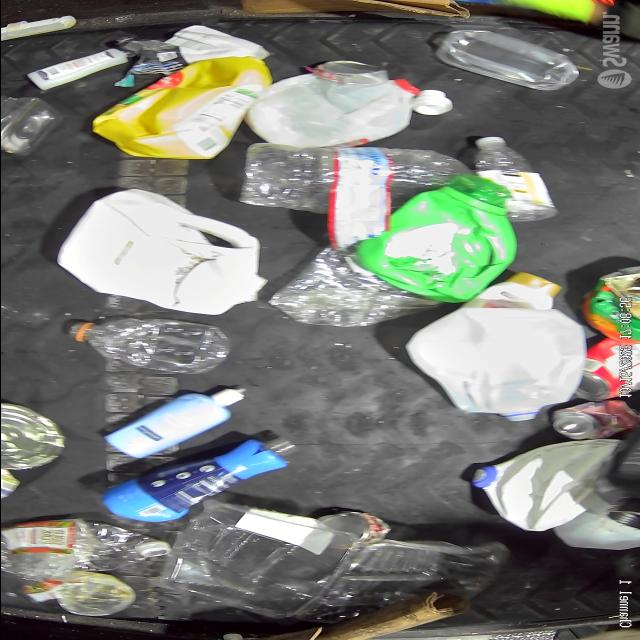can: (578, 337, 640, 402), (549, 402, 639, 440), (322, 510, 392, 548)
milk_jug: (58, 192, 266, 315), (410, 310, 588, 420), (466, 442, 624, 528), (251, 76, 421, 148)
non_white_jug: (355, 173, 515, 300), (95, 53, 274, 159)
plastic_bottle: (252, 148, 460, 192), (433, 30, 578, 90), (4, 520, 170, 570), (77, 320, 231, 371), (467, 138, 558, 222), (1, 402, 65, 468)
